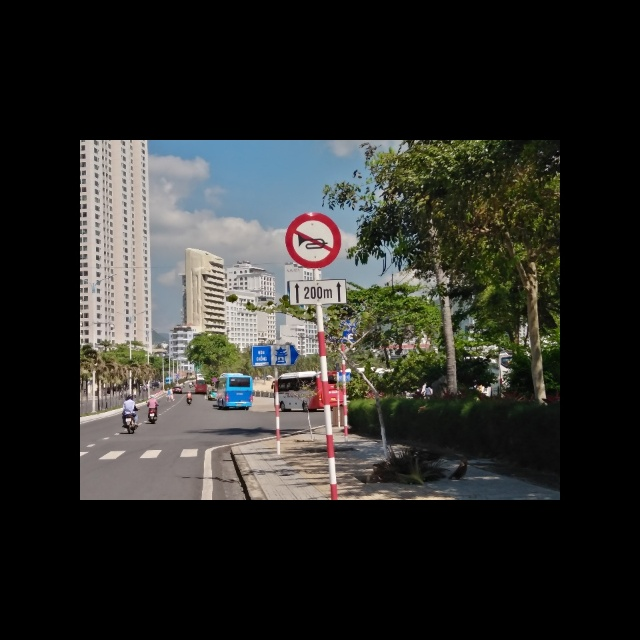Cấm bấm còi: (284, 213, 342, 268)
